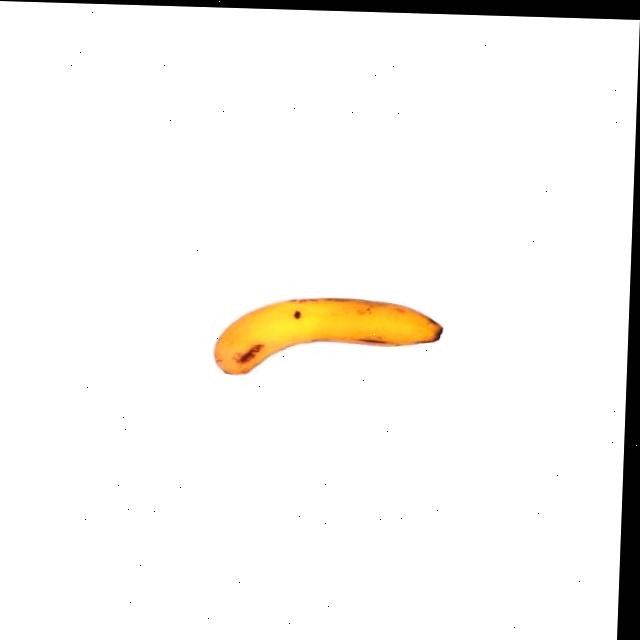banana: (211, 291, 449, 383)
